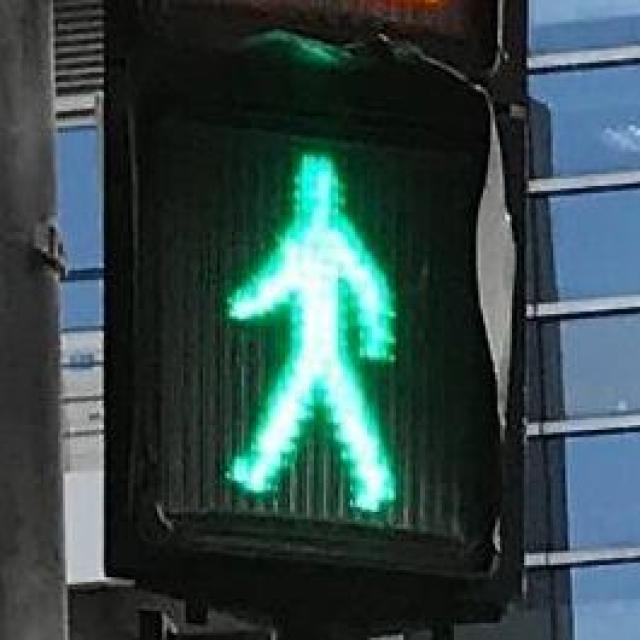green_light: (152, 104, 481, 531)
